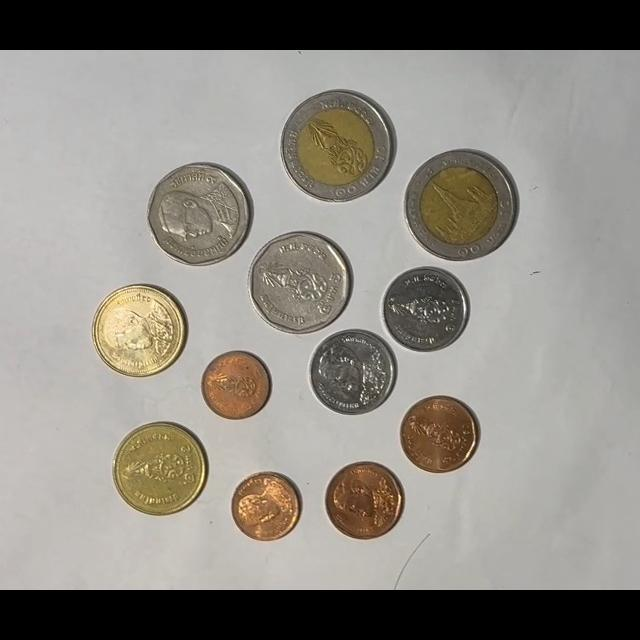1-baht: (309, 329, 397, 416), (382, 266, 470, 353)
10-baht: (280, 89, 395, 204), (403, 149, 517, 261)
2-baht: (113, 422, 209, 517), (92, 284, 185, 379)
25-satang: (231, 471, 302, 542), (201, 350, 271, 420)
5-baht: (248, 231, 352, 335), (147, 163, 251, 267)
50-satang: (324, 462, 404, 541), (399, 395, 480, 473)
